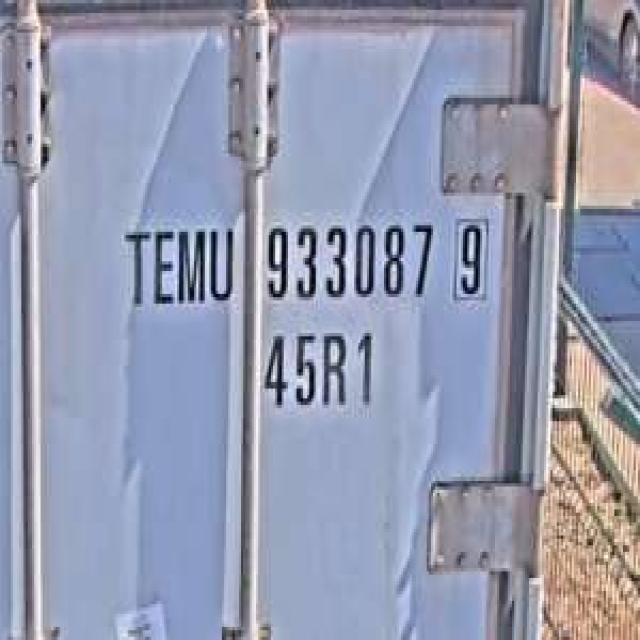dv: (448, 209, 491, 304)
owner: (115, 209, 237, 313)
serial: (260, 209, 438, 307)
size: (258, 320, 380, 418)
